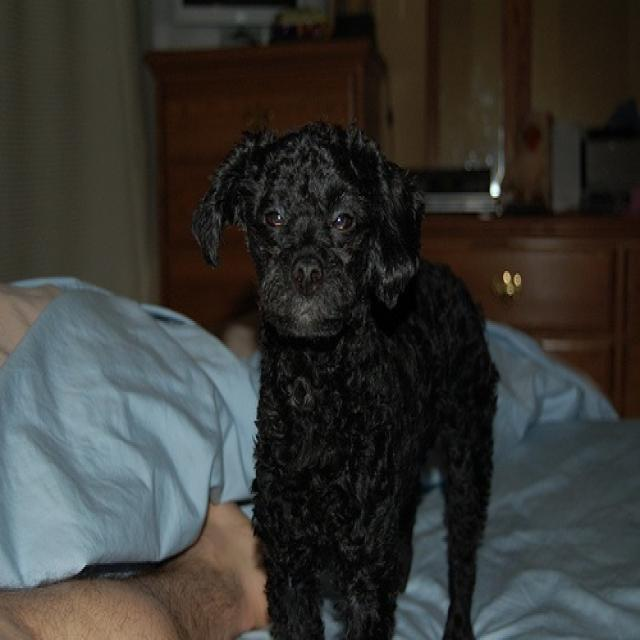dog: (192, 121, 494, 638)
